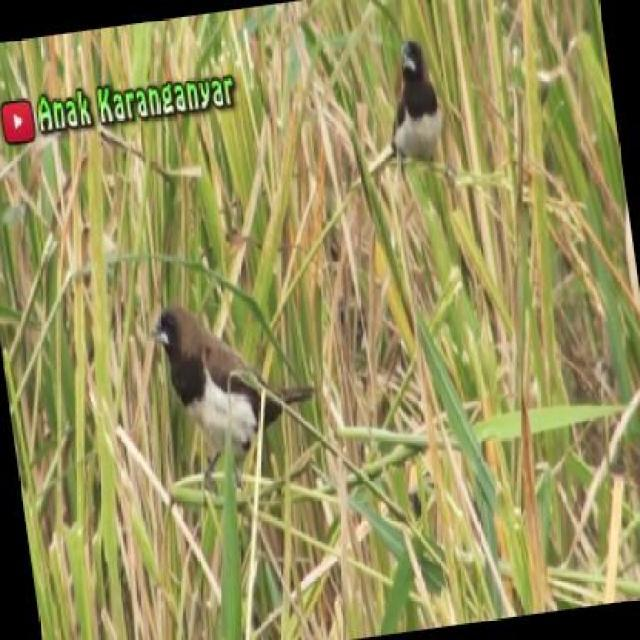Bird: (146, 293, 312, 477), (377, 32, 458, 182)
